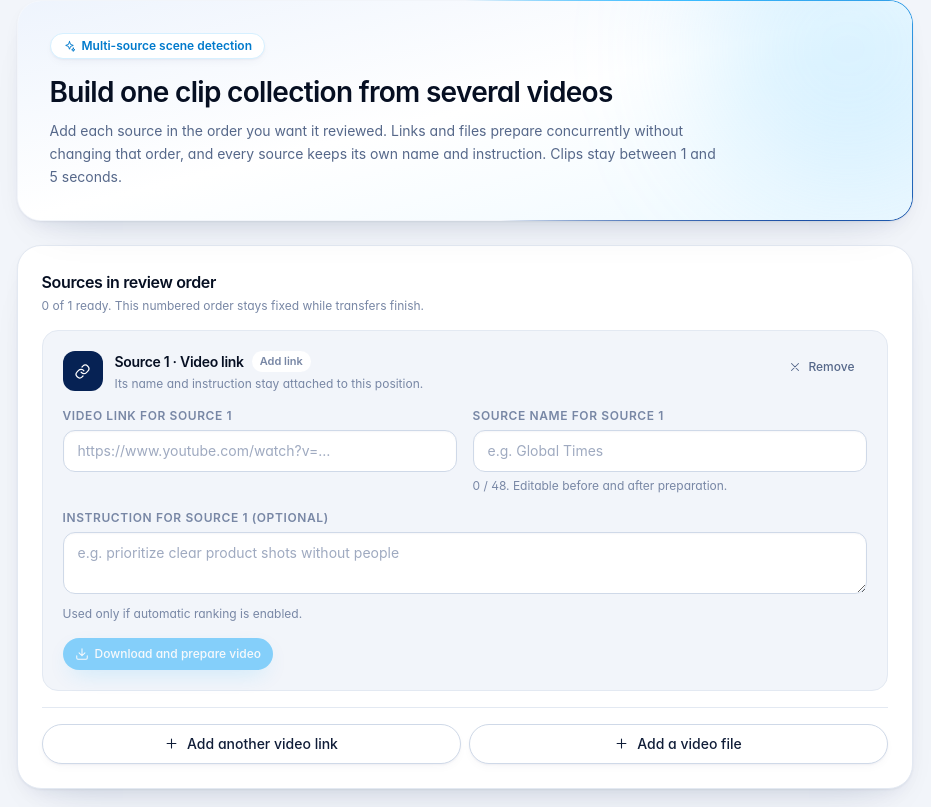
it: new-job source rows › shows the backend field error for the affected source
This screenshot has width=931, height=807.
Type "https://videos.test/source" into the field labelled "Video link for source 1". click: (260, 451)
box: top-left (62, 430), bottom-right (456, 472)
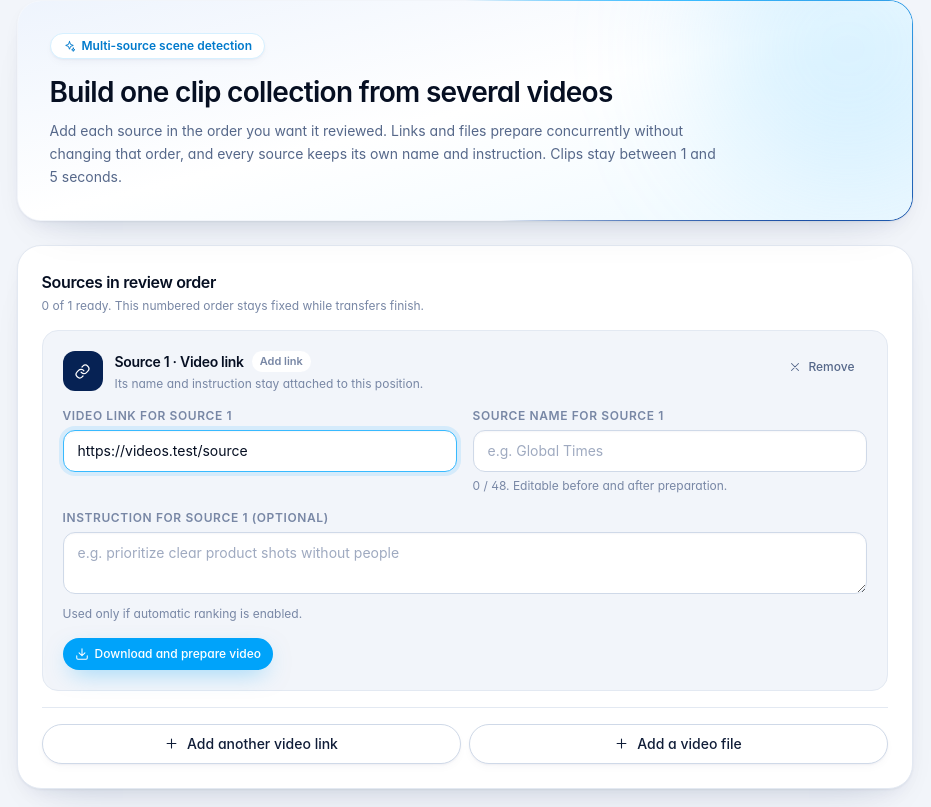
Click the button "Download and prepare video". click: click(168, 654)
box: top-left (62, 638), bottom-right (273, 670)
(page scrolled)
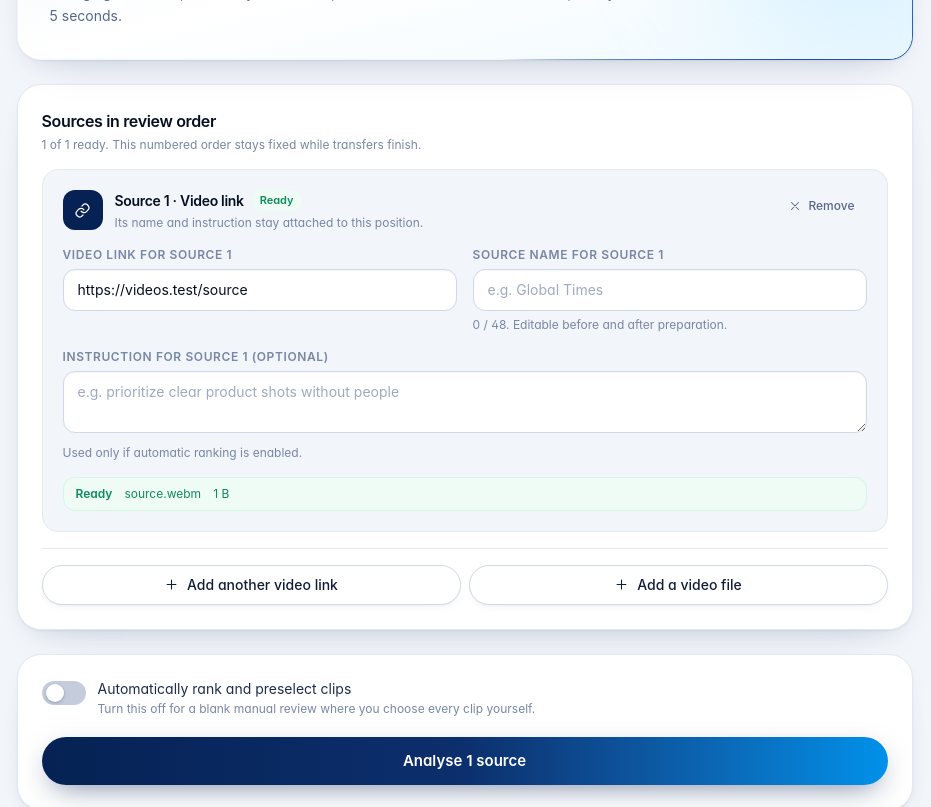
Now the text "source.webm" is shown, box top-left (124, 486), bottom-right (201, 502)
Click the button "Analyse 1 source". click: click(464, 761)
box: top-left (42, 737), bottom-right (888, 785)
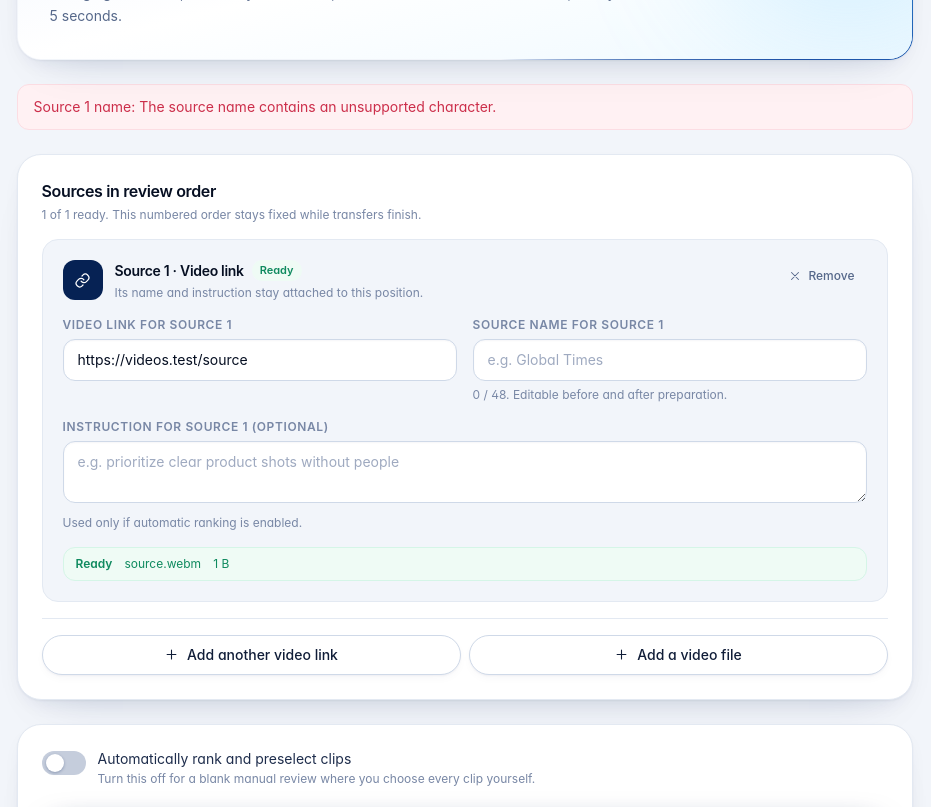
Now the message reads "Source 1 name: The source name contains an unsupported character.", box top-left (34, 98), bottom-right (496, 115)
